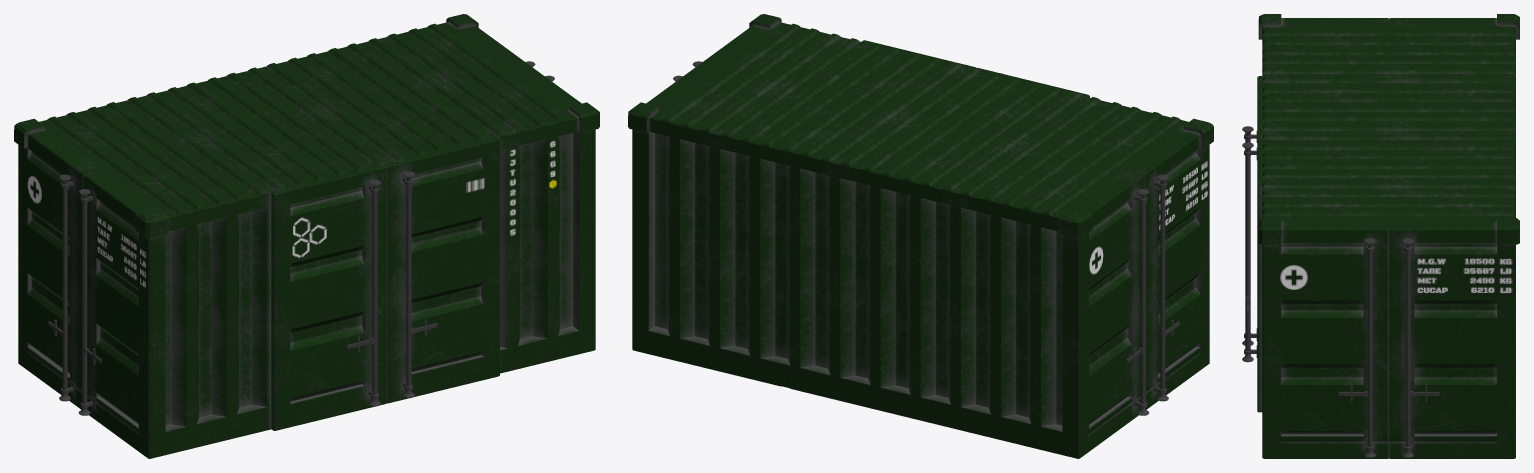
Rendered from container_ver1.2.fbx.
3 views of the same model, side by side, from view 1: azimuth 30°, elevation 25°; view 2: azimuth 150°, elevation 25°; view 3: azimuth 270°, elevation 25° (orthographic). The views are drawn at different scales.
Visible parts, largest first — view 1: container3; view 2: container3; view 3: container3.
Boxes of the visible parts, left/top/right/bottom form: container3: left=14, top=14, right=599, bottom=458; container3: left=628, top=14, right=1213, bottom=458; container3: left=1242, top=14, right=1519, bottom=458.
Bounding box in the file's own units: 419 × 203 × 219.
1 material, 1 textured.
